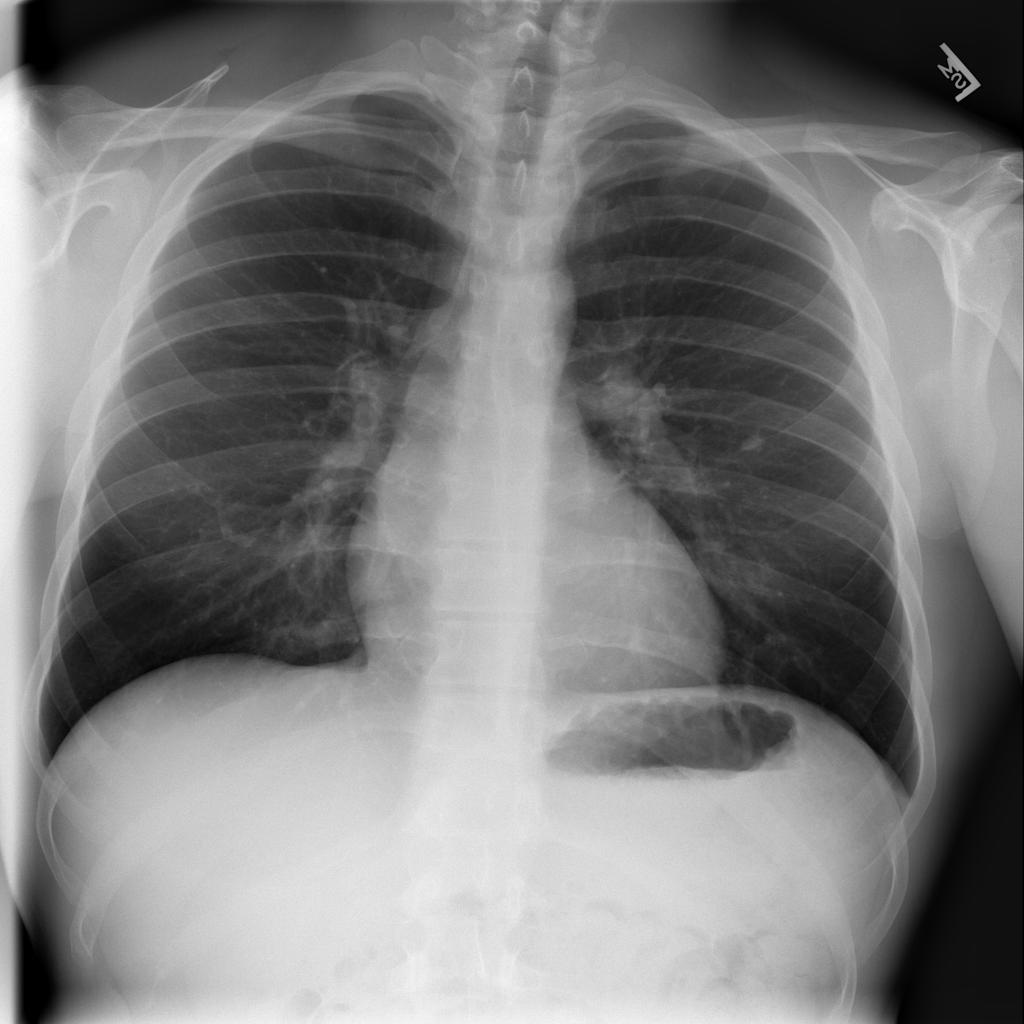nodule: (727, 420, 782, 466)
